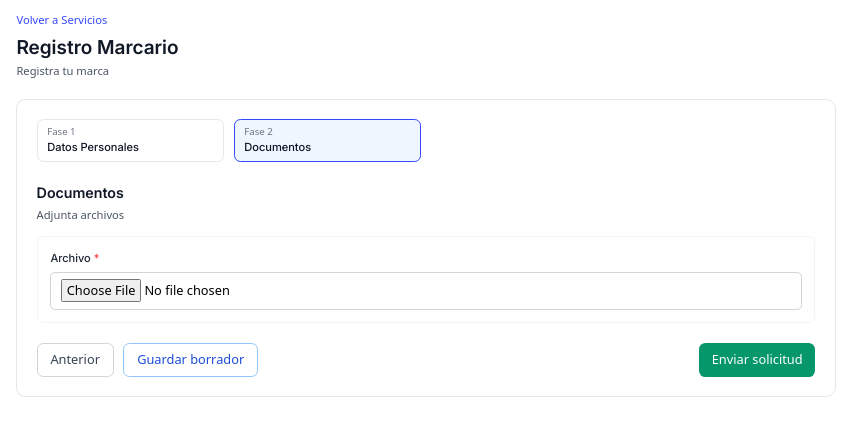
ServiceDetail.vue › required file field shows validation error when no file selected
Click the button "Enviar solicitud": (757, 360) [699,343,815,377]
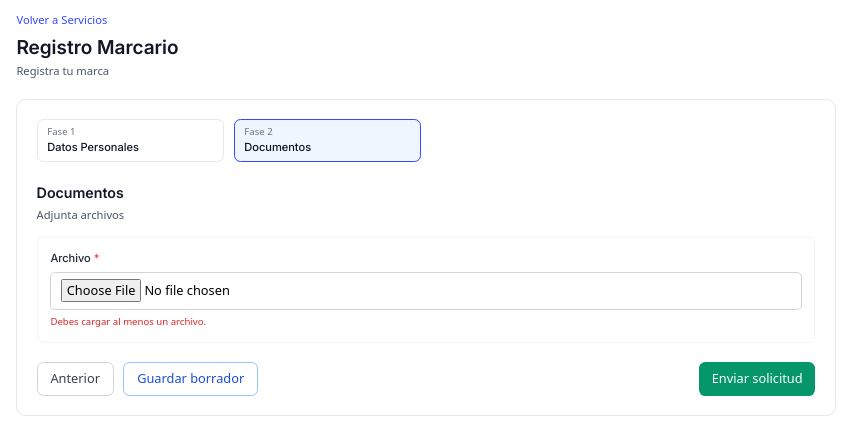
Expected: the text "al menos un archivo" is shown, [50,315,206,328]
